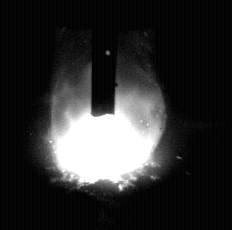arame: (92, 0, 117, 117)
poca: (51, 0, 162, 230)
